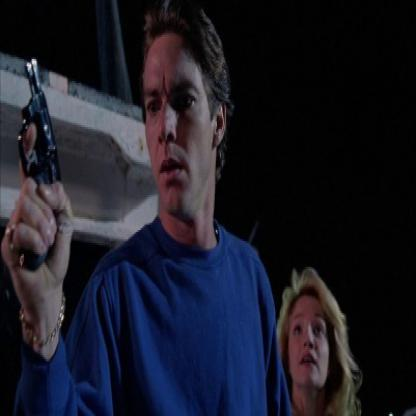Pistol: (0, 48, 70, 221)
